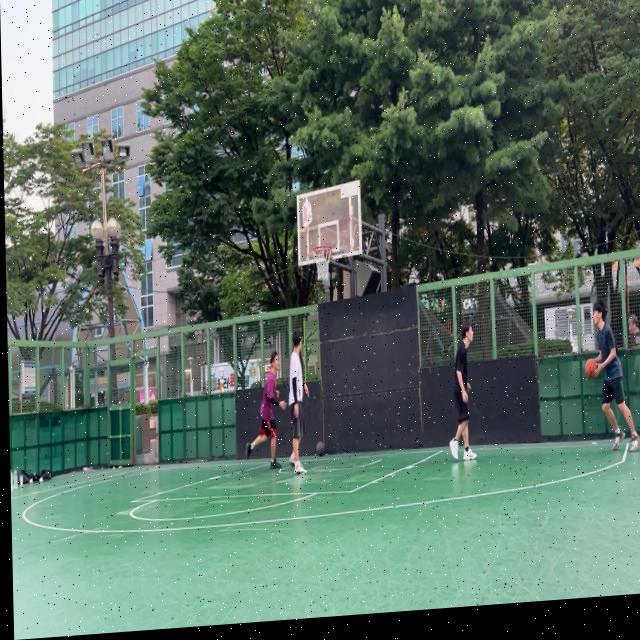basketball: (584, 358, 598, 380), (316, 440, 325, 457)
hoop: (312, 245, 333, 282)
